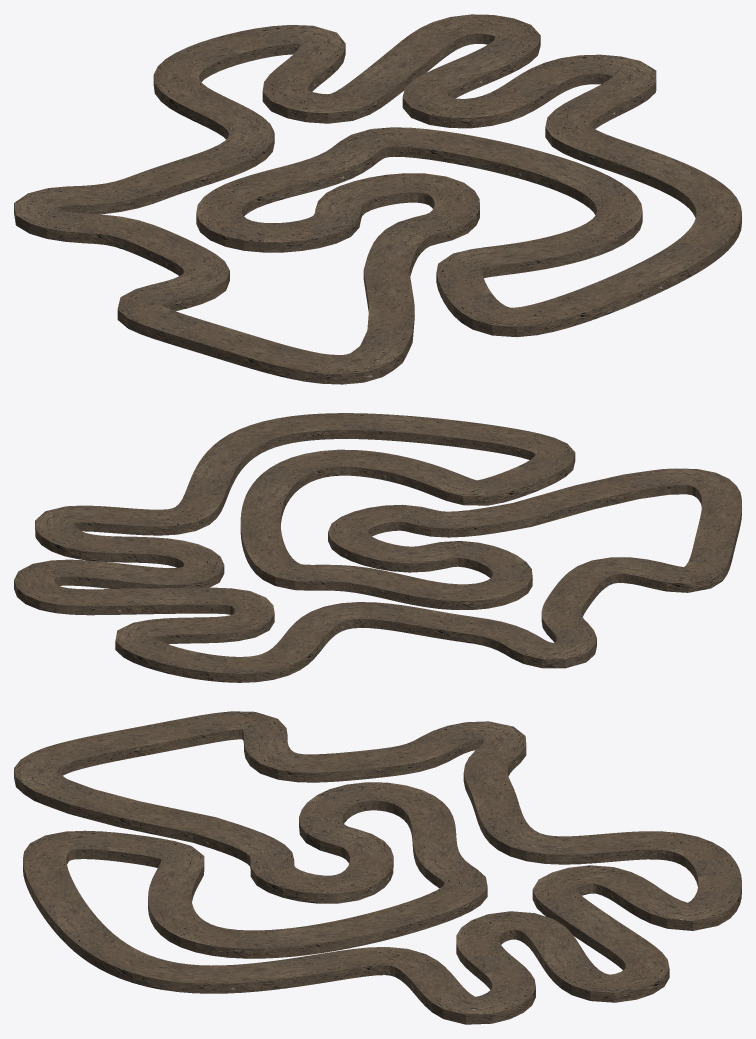
The model's file is layer-loop_10.fbx.
3 renders of one model, top to bottom at view 1: azimuth 30°, elevation 25°; view 2: azimuth 150°, elevation 25°; view 3: azimuth 270°, elevation 25°, orthographic. The views are drawn at different scales.
Visible parts, largest first — view 1: NEW LL MESH; view 2: NEW LL MESH; view 3: NEW LL MESH.
Part boxes in pixels (x1,y1,x2,y2): NEW LL MESH: (14,14,741,384); NEW LL MESH: (14,413,741,682); NEW LL MESH: (14,711,741,1024).
Size of the model in its own units: 6594 by 100 by 6684.
1 material, 1 textured.
